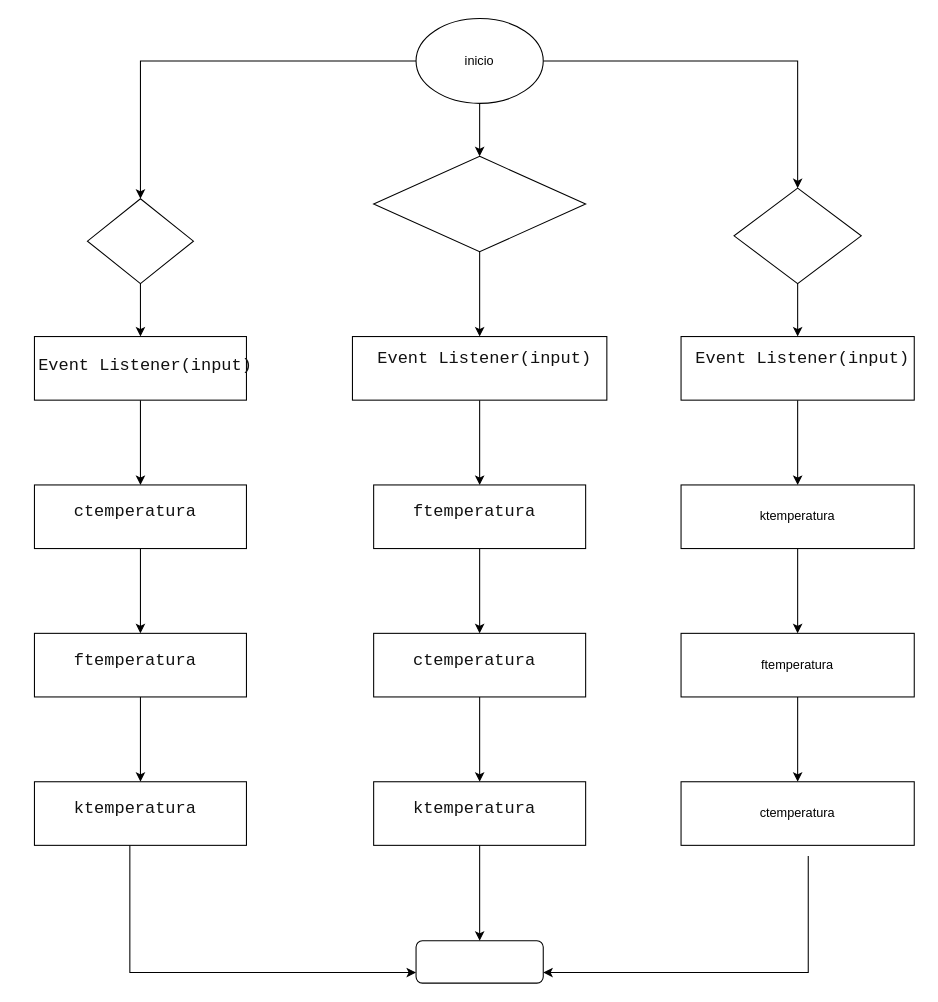
This 938x1002 diagram has some shape labels left out. The box of each missing label's shape, as (x1, y1, x2, y2) in pixels:
fahrenheitInput: (373, 155, 586, 252)
fin: (415, 940, 543, 983)
Input_Celcius: (86, 198, 193, 284)
kelvinInput: (733, 187, 861, 284)
